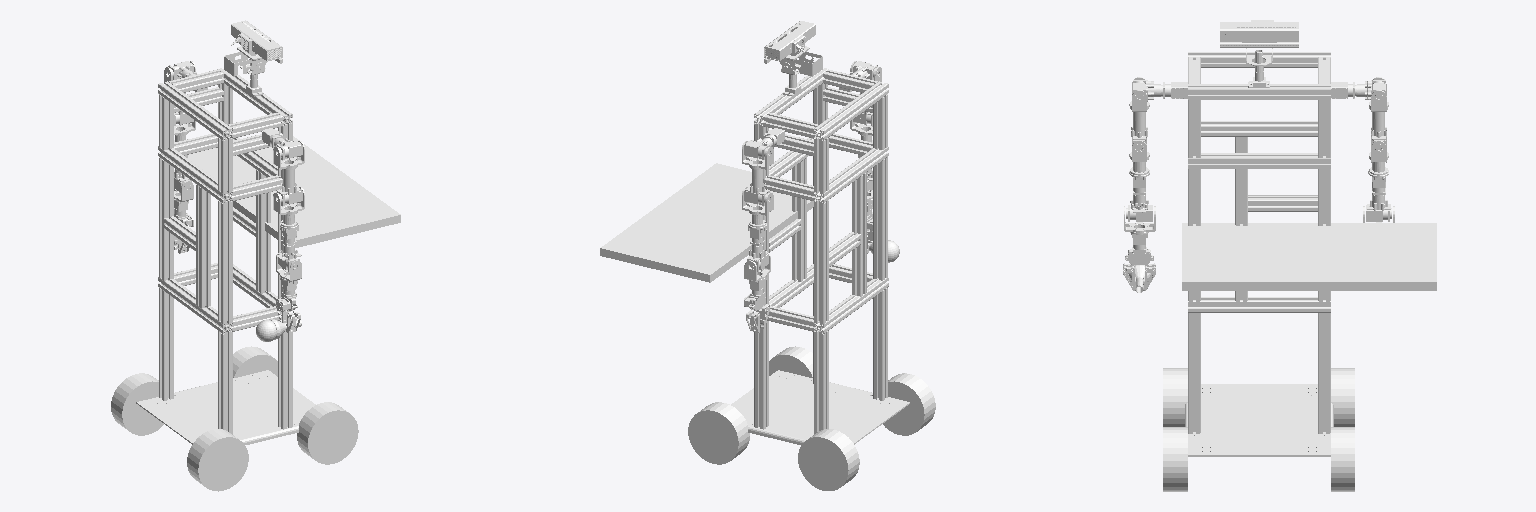
--- What the picture shows (computed from the rendered views, not written in the file) ---
The picture shows the robot from 3 angles, left to right: view 1: azimuth 30°, elevation 25°; view 2: azimuth 150°, elevation 25°; view 3: azimuth 270°, elevation 25°; orthographic projection.
Robot: NKG_ROBOT — 53 links, 52 joints (12 revolute, 1 prismatic, 39 fixed); root link base_link; default pose: all joints at 0.
Visible links, largest first — view 1: base_link, link_table, link_wheel_r2, link_wheel_r1, link_wheel_l2, link_head3, link_wheel_l1; view 2: base_link, link_table, link_wheel_l2, link_wheel_l1, link_wheel_r2, link_head3, link_wheel_r1; view 3: base_link, link_table, link_head3, link_wheel_r1, link_wheel_l1, link_wheel_r2, link_wheel_l2.
Link boxes in pixels (left/top/right/bottom): base_link: left=136, top=68, right=315, bottom=444; link_table: left=188, top=136, right=400, bottom=247; link_wheel_r2: left=187, top=429, right=248, bottom=491; link_wheel_r1: left=297, top=402, right=358, bottom=464; link_wheel_l2: left=111, top=373, right=163, bottom=435; link_head3: left=224, top=20, right=282, bottom=76; link_wheel_l1: left=233, top=346, right=277, bottom=377; base_link: left=731, top=68, right=909, bottom=445; link_table: left=600, top=163, right=813, bottom=282; link_wheel_l2: left=798, top=429, right=859, bottom=490; link_wheel_l1: left=688, top=402, right=749, bottom=464; link_wheel_r2: left=883, top=373, right=935, bottom=435; link_head3: left=764, top=21, right=822, bottom=76; link_wheel_r1: left=769, top=346, right=812, bottom=377; base_link: left=1185, top=52, right=1333, bottom=456; link_table: left=1182, top=223, right=1436, bottom=290; link_head3: left=1220, top=20, right=1298, bottom=47; link_wheel_r1: left=1163, top=427, right=1187, bottom=491; link_wheel_l1: left=1331, top=427, right=1354, bottom=491; link_wheel_r2: left=1163, top=368, right=1187, bottom=426; link_wheel_l2: left=1331, top=368, right=1354, bottom=426.
Bounding box of the posed robot: 0.8465 × 0.9911 × 1.55 m (x, y, z).
Meshes: 15 distinct files referenced, 47 mesh visuals loaded (15 binary STL).

The robot description file, URDF, robot "NKG_ROBOT":
<?xml version="1.0" ?>
<!-- =================================================================================== -->
<!-- |    This document was autogenerated by xacro from gunbo_robot.urdf.xacro         | -->
<!-- |    EDITING THIS FILE BY HAND IS NOT RECOMMENDED                                 | -->
<!-- =================================================================================== -->
<robot name="NKG_ROBOT" xmlns:xacro="http://ros.org/wiki/xacro">
  <material name="gray">
    <color rgba="0.5 0.5 0.5 2.0"/>
  </material>
  <material name="white">
    <color rgba="1.0 1.0 1.0 1.5"/>
  </material>
  <material name="black">
    <color rgba="0.0 0.0 0.0 1.5"/>
  </material>
  <link name="base_link">
    <visual>
      <origin rpy="3.1415926536 0 0" xyz="0 0 0.1365"/>
      <geometry>
        <mesh filename="package://nkg_robot_description/meshes/gunbo_body.stl" scale="0.001 0.001 0.001"/>
      </geometry>
      <material name="white"/>
    </visual>
    <collision>
      <origin rpy="3.1415926536 0 0" xyz="0 0 0.1365"/>
      <geometry>
        <mesh filename="package://nkg_robot_description/meshes/gunbo_body.stl" scale="0.001 0.001 0.001"/>
      </geometry>
    </collision>
  </link>
  <link name="link_table">
    <visual>
      <origin rpy="0 0 0" xyz="0.201 0.158 -0.015"/>
      <geometry>
        <box size="0.442 0.806 0.03"/>
      </geometry>
      <material name="white"/>
    </visual>
    <collision>
      <origin rpy="0 0 0" xyz="0.201 0.158 -0.015"/>
      <geometry>
        <box size="0.442 0.806 0.03"/>
      </geometry>
      <material name="white"/>
    </collision>
  </link>
  <joint name="joint_table" type="fixed">
    <parent link="base_link"/>
    <child link="link_table"/>
    <origin rpy="0 0 0" xyz="0.103 0 0.86"/>
  </joint>
  <link name="link_wheel_l1">
    <visual>
      <origin rpy="0 0 0" xyz="0 0 0"/>
      <geometry>
        <cylinder length="0.078" radius="0.1015"/>
      </geometry>
      <material name="white"/>
    </visual>
    <collision>
      <origin rpy="0 0 0" xyz="0 0 0"/>
      <geometry>
        <cylinder length="0.078" radius="0.1015"/>
      </geometry>
    </collision>
  </link>
  <joint name="wheel_l1" type="fixed">
    <parent link="base_link"/>
    <child link="link_wheel_l1"/>
    <origin rpy="1.5707963268 0 0" xyz="0.22 0.264 0.1015"/>
  </joint>
  <link name="link_wheel_l2">
    <visual>
      <origin rpy="0 0 0" xyz="0 0 0"/>
      <geometry>
        <cylinder length="0.078" radius="0.1015"/>
      </geometry>
      <material name="white"/>
    </visual>
    <collision>
      <origin rpy="0 0 0" xyz="0 0 0"/>
      <geometry>
        <cylinder length="0.078" radius="0.1015"/>
      </geometry>
    </collision>
  </link>
  <joint name="wheel_l2" type="fixed">
    <parent link="base_link"/>
    <child link="link_wheel_l2"/>
    <origin rpy="1.5707963268 0 0" xyz="-0.22 0.264 0.1015"/>
  </joint>
  <link name="link_wheel_r1">
    <visual>
      <origin rpy="0 0 0" xyz="0 0 0"/>
      <geometry>
        <cylinder length="0.078" radius="0.1015"/>
      </geometry>
      <material name="white"/>
    </visual>
    <collision>
      <origin rpy="0 0 0" xyz="0 0 0"/>
      <geometry>
        <cylinder length="0.078" radius="0.1015"/>
      </geometry>
    </collision>
  </link>
  <joint name="wheel_r1" type="fixed">
    <parent link="base_link"/>
    <child link="link_wheel_r1"/>
    <origin rpy="-1.5707963268 0 0" xyz="0.22 -0.264 0.1015"/>
  </joint>
  <link name="link_wheel_r2">
    <visual>
      <origin rpy="0 0 0" xyz="0 0 0"/>
      <geometry>
        <cylinder length="0.078" radius="0.1015"/>
      </geometry>
      <material name="white"/>
    </visual>
    <collision>
      <origin rpy="0 0 0" xyz="0 0 0"/>
      <geometry>
        <cylinder length="0.078" radius="0.1015"/>
      </geometry>
    </collision>
  </link>
  <joint name="wheel_r2" type="fixed">
    <parent link="base_link"/>
    <child link="link_wheel_r2"/>
    <origin rpy="-1.5707963268 0 0" xyz="-0.22 -0.264 0.1015"/>
  </joint>
  <link name="link_head1">
    <visual>
      <origin rpy="0 0 0" xyz="0 0 0"/>
      <geometry>
        <mesh filename="package://nkg_robot_description/meshes/gunbo_head_1.stl" scale="0.001 0.001 0.001"/>
      </geometry>
      <material name="white"/>
    </visual>
    <collision>
      <origin rpy="0 0 0" xyz="0 0 0"/>
      <geometry>
        <mesh filename="package://nkg_robot_description/meshes/gunbo_head_1.stl" scale="0.001 0.001 0.001"/>
      </geometry>
    </collision>
  </link>
  <joint name="head_1" type="fixed">
    <parent link="base_link"/>
    <child link="link_head1"/>
    <origin rpy="0 0 0" xyz="0.077 0 1.3365"/>
  </joint>
  <link name="link_head2">
    <visual>
      <origin rpy="1.5707963268 0 1.5707963268" xyz="0 0 -0.189"/>
      <geometry>
        <mesh filename="package://nkg_robot_description/meshes/gunbo_head_2.stl" scale="0.001 0.001 0.001"/>
      </geometry>
      <material name="white"/>
    </visual>
    <collision>
      <origin rpy="1.5707963268 0 1.5707963268" xyz="0 0 -0.189"/>
      <geometry>
        <mesh filename="package://nkg_robot_description/meshes/gunbo_head_2.stl" scale="0.001 0.001 0.001"/>
      </geometry>
    </collision>
  </link>
  <joint name="head_2" type="fixed">
    <parent link="link_head1"/>
    <child link="link_head2"/>
    <origin rpy="0 0 0" xyz="0 0 0.0945"/>
  </joint>
  <link name="link_head3">
    <visual>
      <origin rpy="0 0 3.1415926536" xyz="0 0 0"/>
      <geometry>
        <mesh filename="package://nkg_robot_description/meshes/gunbo_head_3.stl" scale="0.001 0.001 0.001"/>
      </geometry>
      <material name="white"/>
    </visual>
    <collision>
      <origin rpy="0 0 3.1415926536" xyz="0 0 0"/>
      <geometry>
        <mesh filename="package://nkg_robot_description/meshes/gunbo_head_3.stl" scale="0.001 0.001 0.001"/>
      </geometry>
    </collision>
  </link>
  <joint name="head_3" type="fixed">
    <parent link="link_head2"/>
    <child link="link_head3"/>
    <origin rpy="0 0 0" xyz="0 0 0.017"/>
  </joint>
  <link name="M8_link">
    <visual>
      <origin rpy="-1.5707963268 0 0" xyz="0 0.084 0"/>
      <geometry>
        <mesh filename="package://nkg_robot_description/meshes/h42_20.stl" scale="0.001 0.001 0.001"/>
      </geometry>
      <material name="white"/>
    </visual>
    <collision>
      <origin rpy="-1.5707963268 0 0" xyz="0 0.084 0"/>
      <geometry>
        <mesh filename="package://nkg_robot_description/meshes/h42_20.stl" scale="0.001 0.001 0.001"/>
      </geometry>
    </collision>
  </link>
  <joint name="arm_l_base_joint" type="fixed">
    <parent link="base_link"/>
    <child link="M8_link"/>
    <origin rpy="0 0 0" xyz="0 0.225 1.2825"/>
  </joint>
  <link name="arml_1_1_link">
    <visual>
      <origin rpy="-1.5707963268 0 0" xyz="0 0.0325 0"/>
      <geometry>
        <mesh filename="package://nkg_robot_description/meshes/NKG_ARM_A.stl" scale="0.001 0.001 0.001"/>
      </geometry>
      <material name="white"/>
    </visual>
    <collision>
      <origin rpy="-1.5707963268 0 0" xyz="0 0.0325 0"/>
      <geometry>
        <mesh filename="package://nkg_robot_description/meshes/NKG_ARM_A.stl" scale="0.001 0.001 0.001"/>
      </geometry>
    </collision>
  </link>
  <joint name="M8_joint" type="revolute">
    <parent link="M8_link"/>
    <child link="arml_1_1_link"/>
    <origin rpy="0 0 0" xyz="0 0.084 0"/>
    <limit effort="30" lower="-2.0943951024" upper="2.0943951024" velocity="10"/>
    <axis xyz="0 1 0"/>
  </joint>
  <link name="arml_1_2_link">
    <visual>
      <origin rpy="1.5707963268 0 0" xyz="0 0 0"/>
      <geometry>
        <mesh filename="package://nkg_robot_description/meshes/NKG_ARM_B.stl" scale="0.001 0.001 0.001"/>
      </geometry>
      <material name="white"/>
    </visual>
    <collision>
      <origin rpy="1.5707963268 0 0" xyz="0 0 0"/>
      <geometry>
        <mesh filename="package://nkg_robot_description/meshes/NKG_ARM_B.stl" scale="0.001 0.001 0.001"/>
      </geometry>
    </collision>
  </link>
  <joint name="arml_1_1_link_joint" type="fixed">
    <parent link="arml_1_1_link"/>
    <child link="arml_1_2_link"/>
    <origin rpy="0 0 0" xyz="0 0.0325 0"/>
  </joint>
  <link name="M9_link">
    <visual>
      <origin rpy="0 -1.5707963268 0" xyz="-0.042 0.021 0"/>
      <geometry>
        <mesh filename="package://nkg_robot_description/meshes/h42_20.stl" scale="0.001 0.001 0.001"/>
      </geometry>
      <material name="white"/>
    </visual>
    <collision>
      <origin rpy="0 -1.5707963268 0" xyz="-0.042 0.021 0"/>
      <geometry>
        <mesh filename="package://nkg_robot_description/meshes/h42_20.stl" scale="0.001 0.001 0.001"/>
      </geometry>
    </collision>
  </link>
  <joint name="arml_1_2_link_joint" type="fixed">
    <parent link="arml_1_2_link"/>
    <child link="M9_link"/>
    <origin rpy="0 0 0" xyz="0 0.015 0"/>
  </joint>
  <link name="arml_2_1_link">
    <visual>
      <origin rpy="0 1.5707963268 -1.5707963268" xyz="0 0 -0.0145"/>
      <geometry>
        <mesh filename="package://nkg_robot_description/meshes/ARM_1.stl" scale="0.001 0.001 0.001"/>
      </geometry>
      <material name="white"/>
    </visual>
    <collision>
      <origin rpy="0 1.5707963268 -1.5707963268" xyz="0 0 -0.0145"/>
      <geometry>
        <mesh filename="package://nkg_robot_description/meshes/ARM_1.stl" scale="0.001 0.001 0.001"/>
      </geometry>
    </collision>
  </link>
  <joint name="M9_joint" type="revolute">
    <parent link="M9_link"/>
    <child link="arml_2_1_link"/>
    <origin rpy="0 0 0" xyz="0 0.021 0"/>
    <limit effort="30" lower="-2.0943951024" upper="2.0943951024" velocity="10"/>
    <axis xyz="-1 0 0"/>
  </joint>
  <link name="arml_2_2_link">
    <visual>
      <origin rpy="0 0 0.5235987756" xyz="0 0 -0.043525"/>
      <geometry>
        <mesh filename="package://nkg_robot_description/meshes/ARM_2.stl" scale="0.001 0.001 0.001"/>
      </geometry>
      <material name="white"/>
    </visual>
    <collision>
      <origin rpy="0 0 0.5235987756" xyz="0 0 -0.043525"/>
      <geometry>
        <mesh filename="package://nkg_robot_description/meshes/ARM_2.stl" scale="0.001 0.001 0.001"/>
      </geometry>
    </collision>
  </link>
  <joint name="arml_2_1_joint" type="fixed">
    <parent link="arml_2_1_link"/>
    <child link="arml_2_2_link"/>
    <origin rpy="0 0 0" xyz="0 0 -0.053"/>
  </joint>
  <link name="arml_2_3_link">
    <visual>
      <origin rpy="0 0 0" xyz="0 0 0"/>
      <geometry>
        <mesh filename="package://nkg_robot_description/meshes/NKG_ARM_B.stl" scale="0.001 0.001 0.001"/>
      </geometry>
      <material name="white"/>
    </visual>
    <collision>
      <origin rpy="0 0 0" xyz="0 0 0"/>
      <geometry>
        <mesh filename="package://nkg_robot_description/meshes/NKG_ARM_B.stl" scale="0.001 0.001 0.001"/>
      </geometry>
    </collision>
  </link>
  <joint name="arml_2_2_joint" type="fixed">
    <parent link="arml_2_2_link"/>
    <child link="arml_2_3_link"/>
    <origin rpy="0 0 0" xyz="0 0 -0.08705"/>
  </joint>
  <link name="M10_link">
    <visual>
      <origin rpy="0 -1.5707963268 0" xyz="-0.042 0 -0.021"/>
      <geometry>
        <mesh filename="package://nkg_robot_description/meshes/h42_20.stl" scale="0.001 0.001 0.001"/>
      </geometry>
      <material name="white"/>
    </visual>
    <collision>
      <origin rpy="0 -1.5707963268 0" xyz="-0.042 0 -0.021"/>
      <geometry>
        <mesh filename="package://nkg_robot_description/meshes/h42_20.stl" scale="0.001 0.001 0.001"/>
      </geometry>
    </collision>
  </link>
  <joint name="arml_2_3_joint" type="fixed">
    <parent link="arml_2_3_link"/>
    <child link="M10_link"/>
    <origin rpy="0 0 0" xyz="0 0 -0.015"/>
  </joint>
  <link name="arml_3_1_link">
    <visual>
      <origin rpy="0 1.5707963268 -1.5707963268" xyz="0 0 -0.0145"/>
      <geometry>
        <mesh filename="package://nkg_robot_description/meshes/ARM_1.stl" scale="0.001 0.001 0.001"/>
      </geometry>
      <material name="white"/>
    </visual>
    <collision>
      <origin rpy="0 1.5707963268 -1.5707963268" xyz="0 0 -0.0145"/>
      <geometry>
        <mesh filename="package://nkg_robot_description/meshes/ARM_1.stl" scale="0.001 0.001 0.001"/>
      </geometry>
    </collision>
  </link>
  <joint name="M10_joint" type="revolute">
    <parent link="M10_link"/>
    <child link="arml_3_1_link"/>
    <origin rpy="0 0 0" xyz="0 0 -0.021"/>
    <limit effort="30" lower="-0.5235987756" upper="2.0943951024" velocity="10"/>
    <axis xyz="-1 0 0"/>
  </joint>
  <link name="arml_3_2_link">
    <visual>
      <origin rpy="-3.1415926536 0 0" xyz="0 0 -0.0265"/>
      <geometry>
        <mesh filename="package://nkg_robot_description/meshes/ARM_4.stl" scale="0.001 0.001 0.001"/>
      </geometry>
      <material name="white"/>
    </visual>
    <collision>
      <origin rpy="-3.1415926536 0 0" xyz="0 0 -0.0265"/>
      <geometry>
        <mesh filename="package://nkg_robot_description/meshes/ARM_4.stl" scale="0.001 0.001 0.001"/>
      </geometry>
    </collision>
  </link>
  <joint name="arml_3_1_joint" type="fixed">
    <parent link="arml_3_1_link"/>
    <child link="arml_3_2_link"/>
    <origin rpy="0 0 0" xyz="0 0 -0.053"/>
  </joint>
  <link name="arml_3_3_link">
    <visual>
      <origin rpy="0 -1.5707963268 1.5707963268" xyz="0 0 -0.0115"/>
      <geometry>
        <mesh filename="package://nkg_robot_description/meshes/ARM_3.stl" scale="0.001 0.001 0.001"/>
      </geometry>
      <material name="white"/>
    </visual>
    <collision>
      <origin rpy="0 -1.5707963268 1.5707963268" xyz="0 0 -0.0115"/>
      <geometry>
        <mesh filename="package://nkg_robot_description/meshes/ARM_3.stl" scale="0.001 0.001 0.001"/>
      </geometry>
    </collision>
  </link>
  <joint name="arml_3_2_joint" type="fixed">
    <parent link="arml_3_2_link"/>
    <child link="arml_3_3_link"/>
    <origin rpy="0 0 0" xyz="0 0 -0.053"/>
  </joint>
  <link name="M11_link">
    <visual>
      <origin rpy="-1.5707963268 0 0" xyz="0 0 -0.066"/>
      <geometry>
        <mesh filename="package://nkg_robot_description/meshes/m42_10.stl" scale="0.001 0.001 0.001"/>
      </geometry>
      <material name="white"/>
    </visual>
    <collision>
      <origin rpy="-1.5707963268 0 0" xyz="0 0 -0.066"/>
      <geometry>
        <mesh filename="package://nkg_robot_description/meshes/m42_10.stl" scale="0.001 0.001 0.001"/>
      </geometry>
    </collision>
  </link>
  <joint name="arml_3_3_joint" type="fixed">
    <parent link="arml_3_3_link"/>
    <child link="M11_link"/>
    <origin rpy="0 0 0" xyz="0 0 -0.005"/>
  </joint>
  <link name="arml_4_1_link">
    <visual>
      <origin rpy="3.1415926536 0 0.5235987756" xyz="0 0 -0.0325"/>
      <geometry>
        <mesh filename="package://nkg_robot_description/meshes/NKG_ARM_A.stl" scale="0.001 0.001 0.001"/>
      </geometry>
      <material name="white"/>
    </visual>
    <collision>
      <origin rpy="3.1415926536 0 0.5235987756" xyz="0 0 -0.0325"/>
      <geometry>
        <mesh filename="package://nkg_robot_description/meshes/NKG_ARM_A.stl" scale="0.001 0.001 0.001"/>
      </geometry>
    </collision>
  </link>
  <joint name="M11_joint" type="revolute">
    <parent link="M11_link"/>
    <child link="arml_4_1_link"/>
    <origin rpy="0 0 0" xyz="0 0 -0.072"/>
    <limit effort="30" lower="-3.76991118432" upper="3.76991118432" velocity="10"/>
    <axis xyz="0 0 -1"/>
  </joint>
  <link name="arml_4_2_link">
    <visual>
      <origin rpy="0 0 1.5707963268" xyz="0 0 0"/>
      <geometry>
        <mesh filename="package://nkg_robot_description/meshes/NKG_ARM_B.stl" scale="0.001 0.001 0.001"/>
      </geometry>
      <material name="white"/>
    </visual>
    <collision>
      <origin rpy="0 0 1.5707963268" xyz="0 0 0"/>
      <geometry>
        <mesh filename="package://nkg_robot_description/meshes/NKG_ARM_B.stl" scale="0.001 0.001 0.001"/>
      </geometry>
    </collision>
  </link>
  <joint name="arml_4_1_joint" type="fixed">
    <parent link="arml_4_1_link"/>
    <child link="arml_4_2_link"/>
    <origin rpy="0 0 0" xyz="0 0 -0.0325"/>
  </joint>
  <link name="M12_link">
    <visual>
      <origin rpy="0 -1.5707963268 -1.5707963268" xyz="0 0.042 -0.021"/>
      <geometry>
        <mesh filename="package://nkg_robot_description/meshes/h42_20.stl" scale="0.001 0.001 0.001"/>
      </geometry>
      <material name="white"/>
    </visual>
    <collision>
      <origin rpy="0 -1.5707963268 -1.5707963268" xyz="0 0.042 -0.021"/>
      <geometry>
        <mesh filename="package://nkg_robot_description/meshes/h42_20.stl" scale="0.001 0.001 0.001"/>
      </geometry>
    </collision>
  </link>
  <joint name="arml_4_2_joint" type="fixed">
    <parent link="arml_4_2_link"/>
    <child link="M12_link"/>
    <origin rpy="0 0 0" xyz="0 0 -0.015"/>
  </joint>
  <link name="arml_5_1_link">
    <visual>
      <origin rpy="0 1.5707963268 0" xyz="0 0 -0.0145"/>
      <geometry>
        <mesh filename="package://nkg_robot_description/meshes/ARM_1.stl" scale="0.001 0.001 0.001"/>
      </geometry>
      <material name="white"/>
    </visual>
    <collision>
      <origin rpy="0 1.5707963268 0" xyz="0 0 -0.0145"/>
      <geometry>
        <mesh filename="package://nkg_robot_description/meshes/ARM_1.stl" scale="0.001 0.001 0.001"/>
      </geometry>
    </collision>
  </link>
  <joint name="M12_joint" type="revolute">
    <parent link="M12_link"/>
    <child link="arml_5_1_link"/>
    <origin rpy="0 0 0" xyz="0 0 -0.021"/>
    <limit effort="30" lower="-2.617993878" upper="0.5235987756" velocity="10"/>
    <axis xyz="0 1 0"/>
  </joint>
  <link name="arml_5_2_link">
    <visual>
      <origin rpy="0 -1.5707963268 0" xyz="0 0 -0.0115"/>
      <geometry>
        <mesh filename="package://nkg_robot_description/meshes/ARM_3.stl" scale="0.001 0.001 0.001"/>
      </geometry>
      <material name="white"/>
    </visual>
    <collision>
      <origin rpy="0 -1.5707963268 0" xyz="0 0 -0.0115"/>
      <geometry>
        <mesh filename="package://nkg_robot_description/meshes/ARM_3.stl" scale="0.001 0.001 0.001"/>
      </geometry>
    </collision>
  </link>
  <joint name="arml_5_1_joint" type="fixed">
    <parent link="arml_5_1_link"/>
    <child link="arml_5_2_link"/>
    <origin rpy="0 0 0" xyz="0 0 -0.053"/>
  </joint>
  <link name="M13_link">
    <visual>
      <origin rpy="-1.5707963268 0 0" xyz="0 0 -0.066"/>
      <geometry>
        <mesh filename="package://nkg_robot_description/meshes/m42_10.stl" scale="0.001 0.001 0.001"/>
      </geometry>
      <material name="white"/>
    </visual>
    <collision>
      <origin rpy="-1.5707963268 0 0" xyz="0 0 -0.066"/>
      <geometry>
        <mesh filename="package://nkg_robot_description/meshes/m42_10.stl" scale="0.001 0.001 0.001"/>
      </geometry>
    </collision>
  </link>
  <joint name="arml_5_2_joint" type="fixed">
    <parent link="arml_5_2_link"/>
    <child link="M13_link"/>
    <origin rpy="0 0 0" xyz="0 0 -0.005"/>
  </joint>
  <link name="grip_l_box_link">
    <visual>
      <origin rpy="0 0 1.5707963268" xyz="0 0 0"/>
      <geometry>
        <mesh filename="package://nkg_robot_description/meshes/NKG_ARM_BOX.stl" scale="0.001 0.001 0.001"/>
      </geometry>
      <material name="white"/>
    </visual>
    <collision>
      <origin rpy="0 0 1.5707963268" xyz="0 0 0"/>
      <geometry>
        <mesh filename="package://nkg_robot_description/meshes/NKG_ARM_BOX.stl" scale="0.001 0.001 0.001"/>
      </geometry>
    </collision>
  </link>
  <joint name="M13_joint" type="revolute">
    <parent link="M13_link"/>
    <child link="grip_l_box_link"/>
    <origin rpy="0 0 0" xyz="0 0 -0.072"/>
    <limit effort="30" lower="-1.5707963268" upper="1.5707963268" velocity="10"/>
    <axis xyz="0 0 -1"/>
  </joint>
  <link name="grip_l_l_link">
    <visual>
      <origin rpy="1.5707963268 0 1.5707963268" xyz="0 -0.013 -0.005"/>
      <geometry>
        <mesh filename="package://nkg_robot_description/meshes/NKG_ARM_GRIPPER.stl" scale="0.001 0.001 0.001"/>
      </geometry>
      <material name="white"/>
    </visual>
    <collision>
      <origin rpy="1.5707963268 0 1.5707963268" xyz="0 -0.013 -0.005"/>
      <geometry>
        <mesh filename="package://nkg_robot_description/meshes/NKG_ARM_GRIPPER.stl" scale="0.001 0.001 0.001"/>
      </geometry>
    </collision>
  </link>
  <!-- <joint name="grip_l_l_joint" type="prismatic"> -->
  <joint name="M14_joint" type="prismatic">
    <parent link="grip_l_box_link"/>
    <child link="grip_l_l_link"/>
    <origin rpy="0 0 0" xyz="0 0 -0.125"/>
    <axis xyz="0 1 0"/>
    <limit effort="300.0" lower="-0.0220" upper="0.013" velocity="1.0"/>
  </joint>
  <link name="grip_l_r_link">
    <visual>
      <origin rpy="1.5707963268 0 -1.5707963268" xyz="0 0.01 -0.005"/>
      <geometry>
        <mesh filename="package://nkg_robot_description/meshes/NKG_ARM_GRIPPER.stl" scale="0.001 0.001 0.001"/>
      </geometry>
      <material name="white"/>
    </visual>
    <collision>
      <origin rpy="1.5707963268 0 -1.5707963268" xyz="0 0.01 -0.005"/>
      <geometry>
        <mesh filename="package://nkg_robot_description/meshes/NKG_ARM_GRIPPER.stl" scale="0.001 0.001 0.001"/>
      </geometry>
    </collision>
  </link>
  <joint name="grip_l_r_joint" type="fixed">
    <parent link="grip_l_box_link"/>
    <child link="grip_l_r_link"/>
    <origin rpy="0 0 0" xyz="0 0 -0.125"/>
  </joint>
  <!--         <xacro:macro_link name="grip_l_funnel_link" mesh="funnel.stl" xyz="0.04625 0 0" rpy="0 -${PI/2} 0"/> -->
  <!--         <xacro:joint_fixed name="grip_l_funnel_joint" link0="grip_l_r_link" link1="grip_l_funnel_link" xyz="0 0 -0.062" rpy="0 0 0"/> -->
  <!--         <link name="grip_l_ball"> -->
  <!--             <visual> -->
  <!--                 <origin xyz="0 0 0" rpy="0 0 0"/> -->
  <!--                 <geometry> -->
  <!--                     <sphere radius="0.047"/> -->
  <!--                 </geometry> -->
  <!--                 <material name="white"/> -->
  <!--             </visual> -->
  <!--             <collision> -->
  <!--                 <origin xyz="0 0 0" rpy="0 0 0"/> -->
  <!--                 <geometry> -->
  <!--                     <sphere radius="0.047"/> -->
  <!--                 </geometry> -->
  <!--             </collision> -->
  <!--         </link> -->
  <!--         <joint name="grip_l_ball_joint" type="fixed"> -->
  <!--             <parent link="grip_l_funnel_link"/> -->
  <!--             <child link="grip_l_ball"/> -->
  <!--             <origin xyz="-0.102 0 0" rpy="0 0 0"/> -->
  <!--         </joint> -->
  <!-- ============== gripper end ============== -->
  <link name="M1_link">
    <visual>
      <origin rpy="1.5707963268 0 0" xyz="0 -0.084 0"/>
      <geometry>
        <mesh filename="package://nkg_robot_description/meshes/h42_20.stl" scale="0.001 0.001 0.001"/>
      </geometry>
      <material name="white"/>
    </visual>
    <collision>
      <origin rpy="1.5707963268 0 0" xyz="0 -0.084 0"/>
      <geometry>
        <mesh filename="package://nkg_robot_description/meshes/h42_20.stl" scale="0.001 0.001 0.001"/>
      </geometry>
    </collision>
  </link>
  <joint name="arm_r_base_joint" type="fixed">
    <parent link="base_link"/>
    <child link="M1_link"/>
    <origin rpy="0 0 0" xyz="0 -0.225 1.2825"/>
  </joint>
  <link name="armr_1_1_link">
    <visual>
      <origin rpy="1.5707963268 0 0" xyz="0 -0.0325 0"/>
      <geometry>
        <mesh filename="package://nkg_robot_description/meshes/NKG_ARM_A.stl" scale="0.001 0.001 0.001"/>
      </geometry>
      <material name="white"/>
    </visual>
    <collision>
      <origin rpy="1.5707963268 0 0" xyz="0 -0.0325 0"/>
      <geometry>
        <mesh filename="package://nkg_robot_description/meshes/NKG_ARM_A.stl" scale="0.001 0.001 0.001"/>
      </geometry>
    </collision>
  </link>
  <joint name="M1_joint" type="revolute">
    <parent link="M1_link"/>
    <child link="armr_1_1_link"/>
    <origin rpy="0 0 0" xyz="0 -0.084 0"/>
    <limit effort="30" lower="-1.5707963268" upper="1.5707963268" velocity="10"/>
    <axis xyz="0 -1 0"/>
  </joint>
  <link name="armr_1_2_link">
    <visual>
      <origin rpy="-1.5707963268 0 0" xyz="0 0 0"/>
      <geometry>
        <mesh filename="package://nkg_robot_description/meshes/NKG_ARM_B.stl" scale="0.001 0.001 0.001"/>
      </geometry>
      <material name="white"/>
    </visual>
    <collision>
      <origin rpy="-1.5707963268 0 0" xyz="0 0 0"/>
      <geometry>
        <mesh filename="package://nkg_robot_description/meshes/NKG_ARM_B.stl" scale="0.001 0.001 0.001"/>
      </geometry>
    </collision>
  </link>
  <joint name="armr_1_1_link_joint" type="fixed">
    <parent link="armr_1_1_link"/>
    <child link="armr_1_2_link"/>
    <origin rpy="0 0 0" xyz="0 -0.0325 0"/>
  </joint>
  <link name="M2_link">
    <visual>
      <origin rpy="0 -1.5707963268 0" xyz="-0.042 -0.021 0"/>
      <geometry>
        <mesh filename="package://nkg_robot_description/meshes/h42_20.stl" scale="0.001 0.001 0.001"/>
      </geometry>
      <material name="white"/>
    </visual>
    <collision>
      <origin rpy="0 -1.5707963268 0" xyz="-0.042 -0.021 0"/>
      <geometry>
        <mesh filename="package://nkg_robot_description/meshes/h42_20.stl" scale="0.001 0.001 0.001"/>
      </geometry>
    </collision>
  </link>
  <joint name="armr_1_2_link_joint" type="fixed">
    <parent link="armr_1_2_link"/>
    <child link="M2_link"/>
    <origin rpy="0 0 0" xyz="0 -0.015 0"/>
  </joint>
  <link name="armr_2_1_link">
    <visual>
      <origin rpy="0 1.5707963268 -1.5707963268" xyz="0 0 -0.0145"/>
      <geometry>
        <mesh filename="package://nkg_robot_description/meshes/ARM_1.stl" scale="0.001 0.001 0.001"/>
      </geometry>
      <material name="white"/>
    </visual>
    <collision>
      <origin rpy="0 1.5707963268 -1.5707963268" xyz="0 0 -0.0145"/>
      <geometry>
        <mesh filename="package://nkg_robot_description/meshes/ARM_1.stl" scale="0.001 0.001 0.001"/>
      </geometry>
    </collision>
  </link>
  <joint name="M2_joint" type="revolute">
    <parent link="M2_link"/>
    <child link="armr_2_1_link"/>
    <origin rpy="0 0 0" xyz="0 -0.021 0"/>
    <limit effort="30" lower="-1.5707963268" upper="1.5707963268" velocity="10"/>
    <axis xyz="-1 0 0"/>
  </joint>
  <link name="armr_2_2_link">
    <visual>
      <origin rpy="0 0 0.5235987756" xyz="0 0 -0.043525"/>
      <geometry>
        <mesh filename="package://nkg_robot_description/meshes/ARM_2.stl" scale="0.001 0.001 0.001"/>
      </geometry>
      <material name="white"/>
    </visual>
    <collision>
      <origin rpy="0 0 0.5235987756" xyz="0 0 -0.043525"/>
      <geometry>
        <mesh filename="package://nkg_robot_description/meshes/ARM_2.stl" scale="0.001 0.001 0.001"/>
      </geometry>
    </collision>
  </link>
  <joint name="armr_2_1_joint" type="fixed">
    <parent link="armr_2_1_link"/>
    <child link="armr_2_2_link"/>
    <origin rpy="0 0 0" xyz="0 0 -0.053"/>
  </joint>
  <link name="armr_2_3_link">
    <visual>
      <origin rpy="0 0 0" xyz="0 0 0"/>
      <geometry>
        <mesh filename="package://nkg_robot_description/meshes/NKG_ARM_B.stl" scale="0.001 0.001 0.001"/>
      </geometry>
      <material name="white"/>
    </visual>
    <collision>
      <origin rpy="0 0 0" xyz="0 0 0"/>
      <geometry>
        <mesh filename="package://nkg_robot_description/meshes/NKG_ARM_B.stl" scale="0.001 0.001 0.001"/>
      </geometry>
    </collision>
  </link>
  <joint name="armr_2_2_joint" type="fixed">
    <parent link="armr_2_2_link"/>
    <child link="armr_2_3_link"/>
    <origin rpy="0 0 0" xyz="0 0 -0.08705"/>
  </joint>
  <link name="M3_link">
    <visual>
      <origin rpy="0 -1.5707963268 0" xyz="-0.042 0 -0.021"/>
      <geometry>
        <mesh filename="package://nkg_robot_description/meshes/h42_20.stl" scale="0.001 0.001 0.001"/>
      </geometry>
      <material name="white"/>
    </visual>
    <collision>
      <origin rpy="0 -1.5707963268 0" xyz="-0.042 0 -0.021"/>
      <geometry>
        <mesh filename="package://nkg_robot_description/meshes/h42_20.stl" scale="0.001 0.001 0.001"/>
      </geometry>
    </collision>
  </link>
  <joint name="armr_2_3_joint" type="fixed">
    <parent link="armr_2_3_link"/>
    <child link="M3_link"/>
    <origin rpy="0 0 0" xyz="0 0 -0.015"/>
  </joint>
  <link name="armr_3_1_link">
    <visual>
      <origin rpy="0 1.5707963268 -1.5707963268" xyz="0 0 -0.0145"/>
      <geometry>
        <mesh filename="package://nkg_robot_description/meshes/ARM_1.stl" scale="0.001 0.001 0.001"/>
      </geometry>
      <material name="white"/>
    </visual>
    <collision>
      <origin rpy="0 1.5707963268 -1.5707963268" xyz="0 0 -0.0145"/>
      <geometry>
        <mesh filename="package://nkg_robot_description/meshes/ARM_1.stl" scale="0.001 0.001 0.001"/>
      </geometry>
    </collision>
  </link>
  <joint name="M3_joint" type="revolute">
    <parent link="M3_link"/>
    <child link="armr_3_1_link"/>
    <origin rpy="0 0 0" xyz="0 0 -0.021"/>
    <limit effort="30" lower="-2.617993878" upper="0.5235987756" velocity="10"/>
    <axis xyz="-1 0 0"/>
  </joint>
  <link name="armr_3_2_link">
    <visual>
      <origin rpy="-3.1415926536 0 0" xyz="0 0 -0.0265"/>
      <geometry>
        <mesh filename="package://nkg_robot_description/meshes/ARM_4.stl" scale="0.001 0.001 0.001"/>
      </geometry>
      <material name="white"/>
    </visual>
    <collision>
      <origin rpy="-3.1415926536 0 0" xyz="0 0 -0.0265"/>
      <geometry>
        <mesh filename="package://nkg_robot_description/meshes/ARM_4.stl" scale="0.001 0.001 0.001"/>
      </geometry>
    </collision>
  </link>
  <joint name="armr_3_1_joint" type="fixed">
    <parent link="armr_3_1_link"/>
    <child link="armr_3_2_link"/>
    <origin rpy="0 0 0" xyz="0 0 -0.053"/>
  </joint>
  <link name="armr_3_3_link">
    <visual>
      <origin rpy="0 -1.5707963268 1.5707963268" xyz="0 0 -0.0115"/>
      <geometry>
        <mesh filename="package://nkg_robot_description/meshes/ARM_3.stl" scale="0.001 0.001 0.001"/>
      </geometry>
      <material name="white"/>
    </visual>
    <collision>
      <origin rpy="0 -1.5707963268 1.5707963268" xyz="0 0 -0.0115"/>
      <geometry>
        <mesh filename="package://nkg_robot_description/meshes/ARM_3.stl" scale="0.001 0.001 0.001"/>
      </geometry>
    </collision>
  </link>
  <joint name="armr_3_2_joint" type="fixed">
    <parent link="armr_3_2_link"/>
    <child link="armr_3_3_link"/>
    <origin rpy="0 0 0" xyz="0 0 -0.053"/>
  </joint>
  <link name="M4_link">
    <visual>
      <origin rpy="-1.5707963268 0 0" xyz="0 0 -0.066"/>
      <geometry>
        <mesh filename="package://nkg_robot_description/meshes/m42_10.stl" scale="0.001 0.001 0.001"/>
      </geometry>
      <material name="white"/>
    </visual>
    <collision>
      <origin rpy="-1.5707963268 0 0" xyz="0 0 -0.066"/>
      <geometry>
        <mesh filename="package://nkg_robot_description/meshes/m42_10.stl" scale="0.001 0.001 0.001"/>
      </geometry>
    </collision>
  </link>
  <joint name="armr_3_3_joint" type="fixed">
    <parent link="armr_3_3_link"/>
    <child link="M4_link"/>
    <origin rpy="0 0 0" xyz="0 0 -0.005"/>
  </joint>
  <link name="armr_4_1_link">
    <visual>
      <origin rpy="3.1415926536 0 0.5235987756" xyz="0 0 -0.0325"/>
      <geometry>
        <mesh filename="package://nkg_robot_description/meshes/NKG_ARM_A.stl" scale="0.001 0.001 0.001"/>
      </geometry>
      <material name="white"/>
    </visual>
    <collision>
      <origin rpy="3.1415926536 0 0.5235987756" xyz="0 0 -0.0325"/>
      <geometry>
        <mesh filename="package://nkg_robot_description/meshes/NKG_ARM_A.stl" scale="0.001 0.001 0.001"/>
      </geometry>
    </collision>
  </link>
  <joint name="M4_joint" type="revolute">
    <parent link="M4_link"/>
    <child link="armr_4_1_link"/>
    <origin rpy="0 0 0" xyz="0 0 -0.072"/>
    <limit effort="30" lower="-3.76991118432" upper="3.76991118432" velocity="10"/>
    <axis xyz="0 0 -1"/>
  </joint>
  <link name="armr_4_2_link">
    <visual>
      <origin rpy="0 0 0" xyz="0 0 0"/>
      <geometry>
        <mesh filename="package://nkg_robot_description/meshes/NKG_ARM_B.stl" scale="0.001 0.001 0.001"/>
      </geometry>
      <material name="white"/>
    </visual>
    <collision>
      <origin rpy="0 0 0" xyz="0 0 0"/>
      <geometry>
        <mesh filename="package://nkg_robot_description/meshes/NKG_ARM_B.stl" scale="0.001 0.001 0.001"/>
      </geometry>
    </collision>
  </link>
  <joint name="armr_4_1_joint" type="fixed">
    <parent link="armr_4_1_link"/>
    <child link="armr_4_2_link"/>
    <origin rpy="0 0 0" xyz="0 0 -0.0325"/>
  </joint>
  <link name="M5_link">
    <visual>
      <origin rpy="0 -1.5707963268 1.5707963268" xyz="0 -0.042 -0.021"/>
      <geometry>
        <mesh filename="package://nkg_robot_description/meshes/h42_20.stl" scale="0.001 0.001 0.001"/>
      </geometry>
      <material name="white"/>
    </visual>
    <collision>
      <origin rpy="0 -1.5707963268 1.5707963268" xyz="0 -0.042 -0.021"/>
      <geometry>
        <mesh filename="package://nkg_robot_description/meshes/h42_20.stl" scale="0.001 0.001 0.001"/>
      </geometry>
    </collision>
  </link>
  <joint name="armr_4_2_joint" type="fixed">
    <parent link="armr_4_2_link"/>
    <child link="M5_link"/>
    <origin rpy="0 0 0" xyz="0 0 -0.015"/>
  </joint>
  <link name="armr_5_1_link">
    <visual>
      <origin rpy="0 1.5707963268 3.1415926536" xyz="0 0 -0.0145"/>
      <geometry>
        <mesh filename="package://nkg_robot_description/meshes/ARM_1.stl" scale="0.001 0.001 0.001"/>
      </geometry>
      <material name="white"/>
    </visual>
    <collision>
      <origin rpy="0 1.5707963268 3.1415926536" xyz="0 0 -0.0145"/>
      <geometry>
        <mesh filename="package://nkg_robot_description/meshes/ARM_1.stl" scale="0.001 0.001 0.001"/>
      </geometry>
    </collision>
  </link>
  <joint name="M5_joint" type="revolute">
    <parent link="M5_link"/>
    <child link="armr_5_1_link"/>
    <origin rpy="0 0 0" xyz="0 0 -0.021"/>
    <limit effort="30" lower="-0.5235987756" upper="2.617993878" velocity="10"/>
    <axis xyz="0 -1 0"/>
  </joint>
  <link name="armr_5_2_link">
    <visual>
      <origin rpy="0 -1.5707963268 0" xyz="0 0 -0.0115"/>
      <geometry>
        <mesh filename="package://nkg_robot_description/meshes/ARM_3.stl" scale="0.001 0.001 0.001"/>
      </geometry>
      <material name="white"/>
    </visual>
    <collision>
      <origin rpy="0 -1.5707963268 0" xyz="0 0 -0.0115"/>
      <geometry>
        <mesh filename="package://nkg_robot_description/meshes/ARM_3.stl" scale="0.001 0.001 0.001"/>
      </geometry>
    </collision>
  </link>
  <joint name="armr_5_1_joint" type="fixed">
    <parent link="armr_5_1_link"/>
    <child link="armr_5_2_link"/>
    <origin rpy="0 0 0" xyz="0 0 -0.053"/>
  </joint>
  <link name="M6_link">
    <visual>
      <origin rpy="-1.5707963268 0 0" xyz="0 0 -0.066"/>
      <geometry>
        <mesh filename="package://nkg_robot_description/meshes/m42_10.stl" scale="0.001 0.001 0.001"/>
      </geometry>
      <material name="white"/>
    </visual>
    <collision>
      <origin rpy="-1.5707963268 0 0" xyz="0 0 -0.066"/>
      <geometry>
        <mesh filename="package://nkg_robot_description/meshes/m42_10.stl" scale="0.001 0.001 0.001"/>
      </geometry>
    </collision>
  </link>
  <joint name="armr_5_2_joint" type="fixed">
    <parent link="armr_5_2_link"/>
    <child link="M6_link"/>
    <origin rpy="0 0 0" xyz="0 0 -0.005"/>
  </joint>
  <link name="grip_r_box_link">
    <visual>
      <origin rpy="0 0 -1.5707963268" xyz="0 0 0"/>
      <geometry>
        <mesh filename="package://nkg_robot_description/meshes/NKG_ARM_BOX.stl" scale="0.001 0.001 0.001"/>
      </geometry>
      <material name="white"/>
    </visual>
    <collision>
      <origin rpy="0 0 -1.5707963268" xyz="0 0 0"/>
      <geometry>
        <mesh filename="package://nkg_robot_description/meshes/NKG_ARM_BOX.stl" scale="0.001 0.001 0.001"/>
      </geometry>
    </collision>
  </link>
  <joint name="M6_joint" type="revolute">
    <parent link="M6_link"/>
    <child link="grip_r_box_link"/>
    <origin rpy="0 0 0" xyz="0 0 -0.072"/>
    <limit effort="30" lower="-1.5707963268" upper="1.5707963268" velocity="10"/>
    <axis xyz="0 0 -1"/>
  </joint>
  <link name="grip_r_l_link">
    <visual>
      <origin rpy="1.5707963268 0 1.5707963268" xyz="0 -0.01 -0.08"/>
      <geometry>
        <mesh filename="package://nkg_robot_description/meshes/NKG_ARM_GRIPPER.stl" scale="0.001 0.001 0.001"/>
      </geometry>
      <material name="white"/>
    </visual>
    <collision>
      <origin rpy="1.5707963268 0 1.5707963268" xyz="0 -0.01 -0.08"/>
      <geometry>
        <mesh filename="package://nkg_robot_description/meshes/NKG_ARM_GRIPPER.stl" scale="0.001 0.001 0.001"/>
      </geometry>
    </collision>
  </link>
  <joint name="grip_r_l_joint" type="fixed">
    <parent link="grip_r_box_link"/>
    <child link="grip_r_l_link"/>
    <origin rpy="0 0 0" xyz="0 0 -0.0515"/>
    <!-- <axis xyz="0 1 0"/> -->
    <!-- <limit effort="300.0" lower="-0.03" upper="0" velocity="1.0"/> -->
  </joint>
  <link name="grip_r_r_link">
    <visual>
      <origin rpy="1.5707963268 0 -1.5707963268" xyz="0 0.01 -0.08"/>
      <geometry>
        <mesh filename="package://nkg_robot_description/meshes/NKG_ARM_GRIPPER.stl" scale="0.001 0.001 0.001"/>
      </geometry>
      <material name="white"/>
    </visual>
    <collision>
      <origin rpy="1.5707963268 0 -1.5707963268" xyz="0 0.01 -0.08"/>
      <geometry>
        <mesh filename="package://nkg_robot_description/meshes/NKG_ARM_GRIPPER.stl" scale="0.001 0.001 0.001"/>
      </geometry>
    </collision>
  </link>
  <joint name="grip_r_r_joint" type="fixed">
    <parent link="grip_r_box_link"/>
    <child link="grip_r_r_link"/>
    <origin rpy="0 0 0" xyz="0 0 -0.0515"/>
  </joint>
  <link name="grip_r_funnel_link">
    <visual>
      <origin rpy="0 -1.5707963268 0" xyz="0.04625 0 0"/>
      <geometry>
        <mesh filename="package://nkg_robot_description/meshes/funnel.stl" scale="0.001 0.001 0.001"/>
      </geometry>
      <material name="white"/>
    </visual>
    <collision>
      <origin rpy="0 -1.5707963268 0" xyz="0.04625 0 0"/>
      <geometry>
        <mesh filename="package://nkg_robot_description/meshes/funnel.stl" scale="0.001 0.001 0.001"/>
      </geometry>
    </collision>
  </link>
  <joint name="grip_r_funnel_joint" type="fixed">
    <parent link="grip_r_r_link"/>
    <child link="grip_r_funnel_link"/>
    <origin rpy="0 0 0" xyz="0 0 -0.062"/>
  </joint>
  <link name="grip_r_ball">
    <visual>
      <origin rpy="0 0 0" xyz="0 0 0"/>
      <geometry>
        <sphere radius="0.039"/>
      </geometry>
      <material name="white"/>
    </visual>
    <collision>
      <origin rpy="0 0 0" xyz="0.039 0 0"/>
      <geometry>
        <sphere radius="0.025"/>
      </geometry>
    </collision>
  </link>
  <joint name="grip_r_ball_joint" type="fixed">
    <parent link="grip_r_funnel_link"/>
    <child link="grip_r_ball"/>
    <origin rpy="0 0 0" xyz="-0.089 0 0"/>
  </joint>
  <!-- ============== gripper end ============== -->
</robot>
